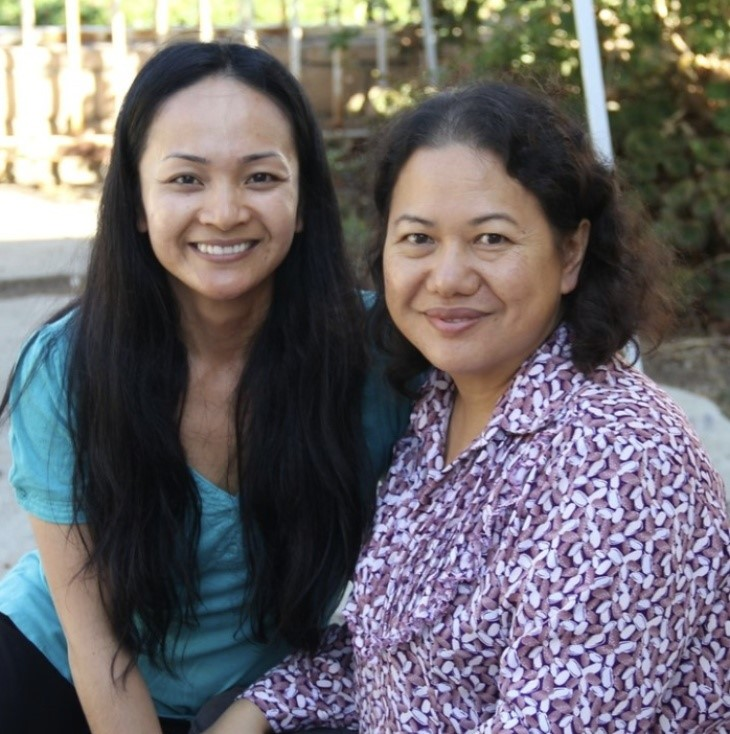face_no_mask: (370, 88, 591, 371), (110, 41, 324, 300)
